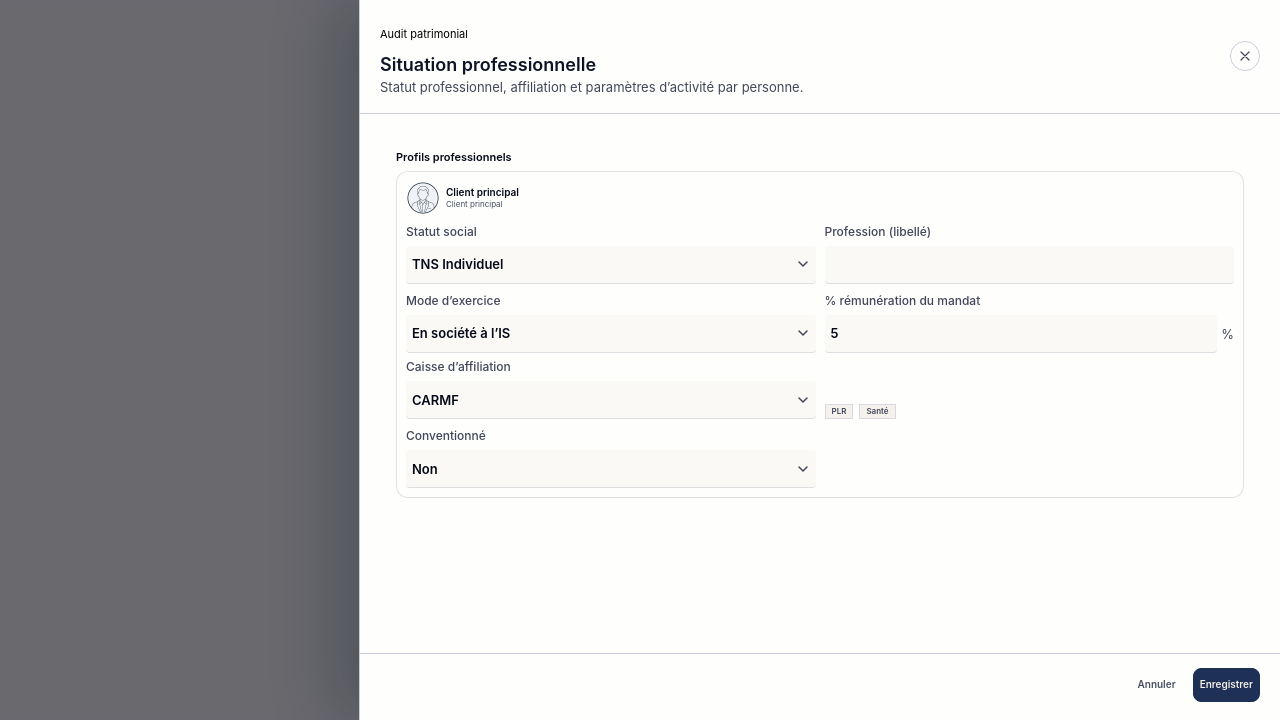
ProfessionDrawer › affiche la cascade TNS individuel avec mode IS, caisse médicale et CPAM conditionnelle
The image size is (1280, 720).
Expected: the button named "Mode d’exercice" reads "En société à l’IS", [406,315,816,353]
Expected: the text "% rémunération du mandat" is shown, [824,293,980,308]
Click the button named "Conventionné". click: coordinates (425, 469)
box: [406,450,816,488]
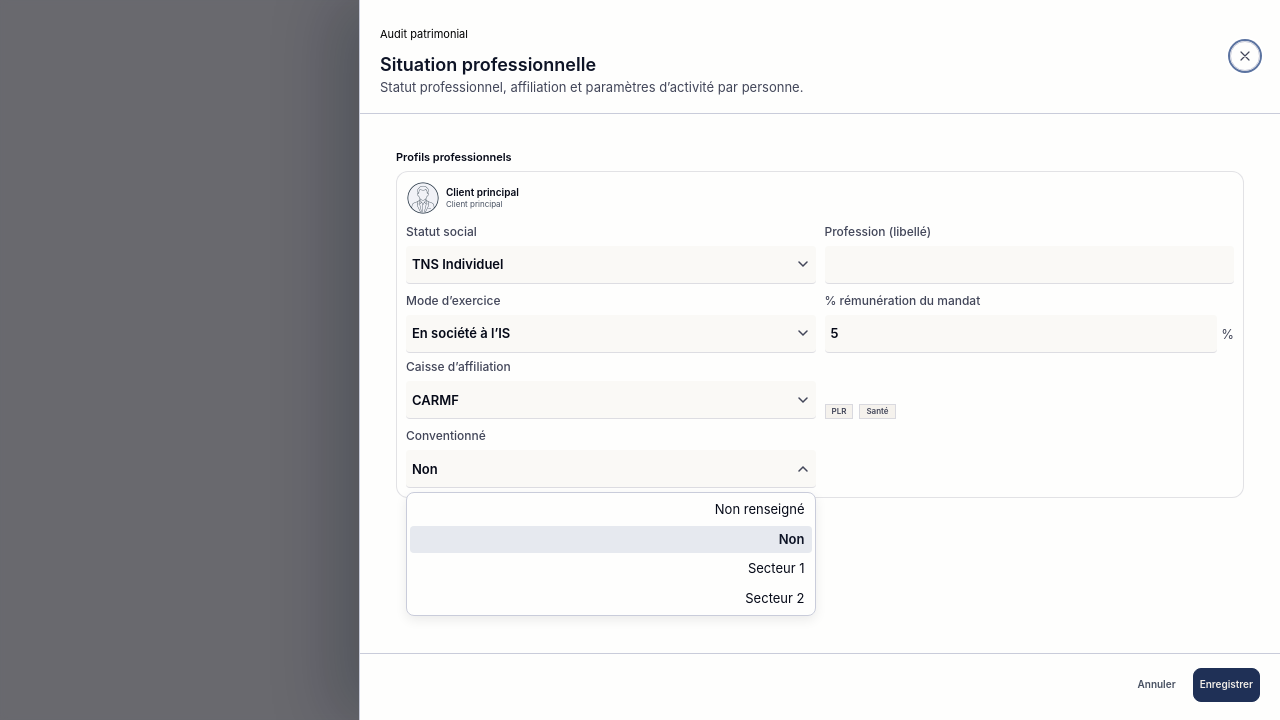
Click the option "Secteur 1". click: coordinates (776, 568)
box: [748,560,804,576]
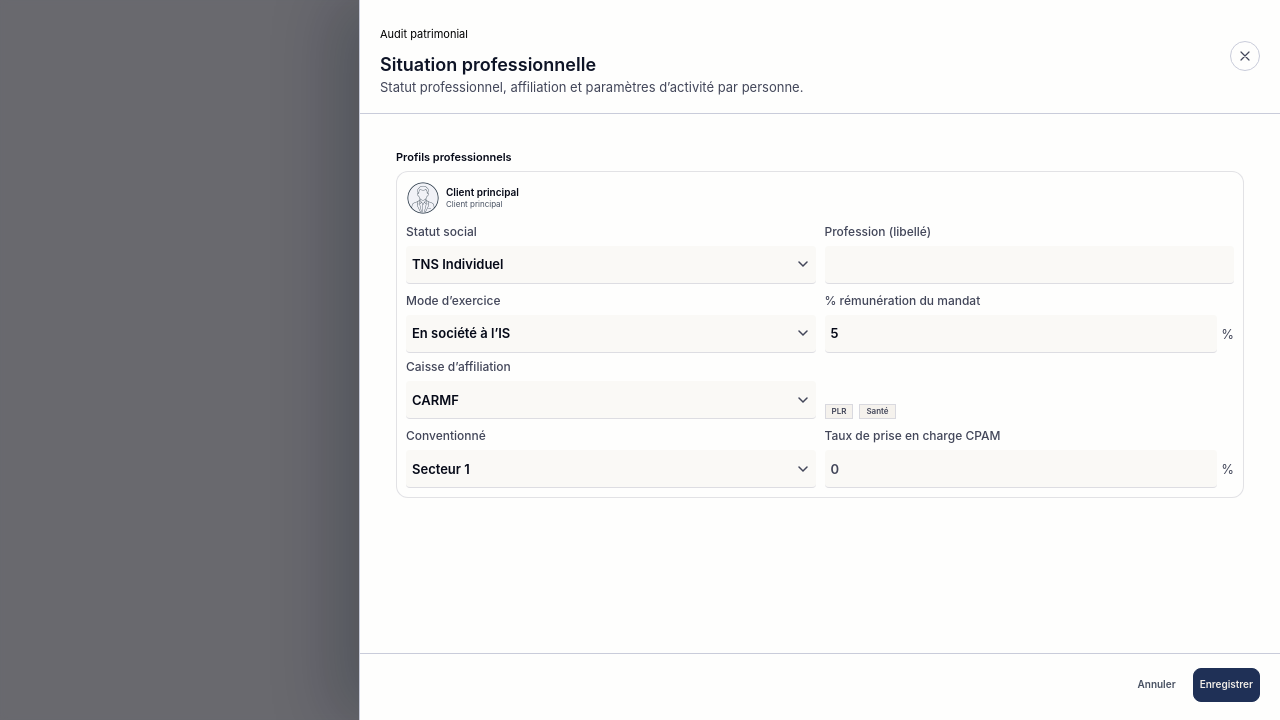
Expected: the text "Taux de prise en charge CPAM" is shown, [824,428,1000,443]
